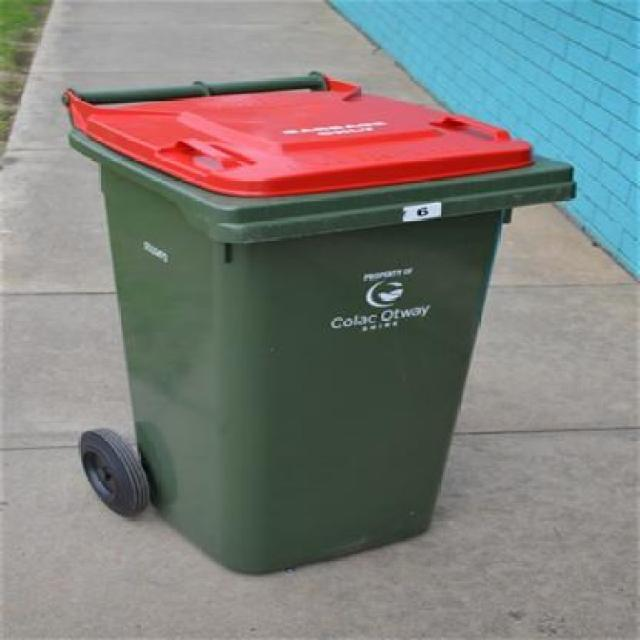garbage container: (46, 68, 605, 590)
